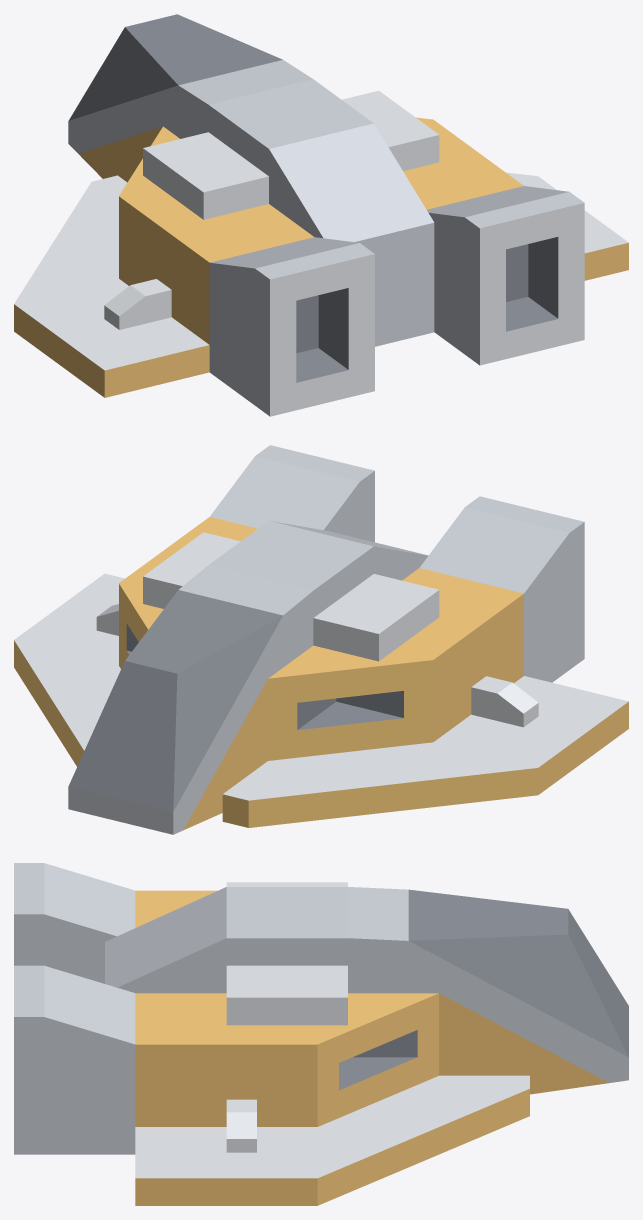
File: craft_speederB.glb
The picture shows the model from 3 angles, top to bottom: view 1: azimuth 30°, elevation 25°; view 2: azimuth 150°, elevation 25°; view 3: azimuth 270°, elevation 25°; orthographic projection.
Parts seen in each view (by area): view 1: craft_speederB; view 2: craft_speederB; view 3: craft_speederB.
Boxes of the visible parts, left/top/right/bottom form: craft_speederB: left=14, top=14, right=628, bottom=416; craft_speederB: left=14, top=445, right=628, bottom=834; craft_speederB: left=14, top=863, right=628, bottom=1205.
Bounding box in the file's own units: 6 × 1.8 × 6.08.
